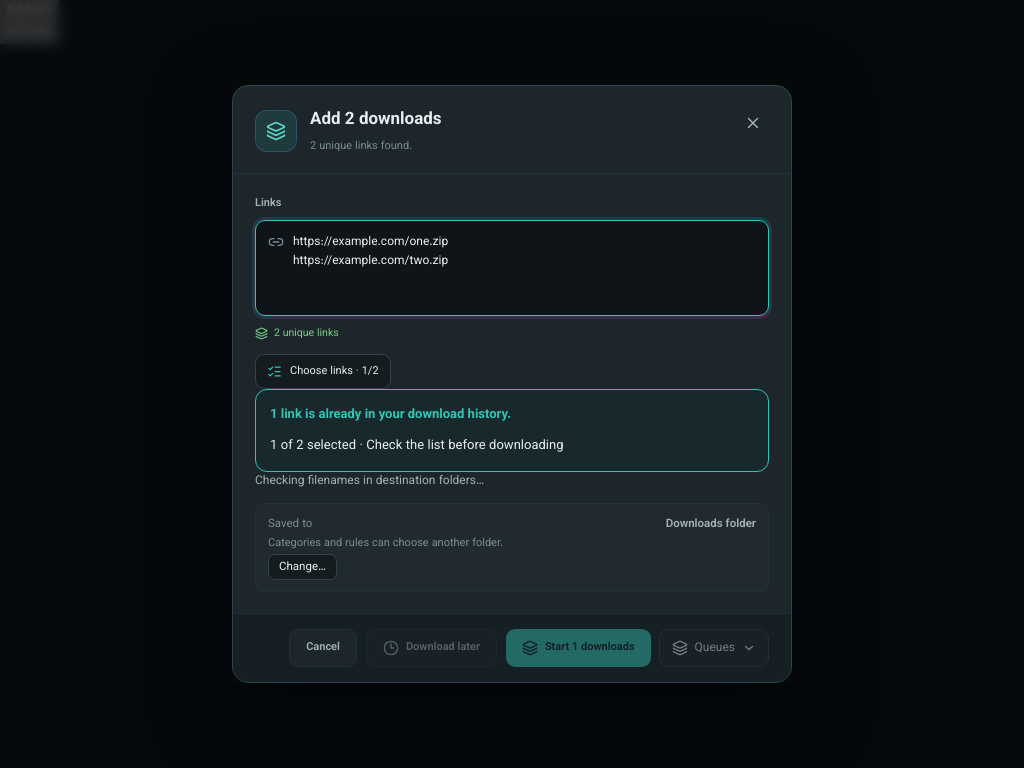
Test: add-download modal keyboard navigation › keeps link selection open when an existing download completes in the background
This screenshot has width=1024, height=768.
Click the button with class "add-download-modal__manage-links" at (323, 372), box [255,354,391,389]
Wait 80 ms
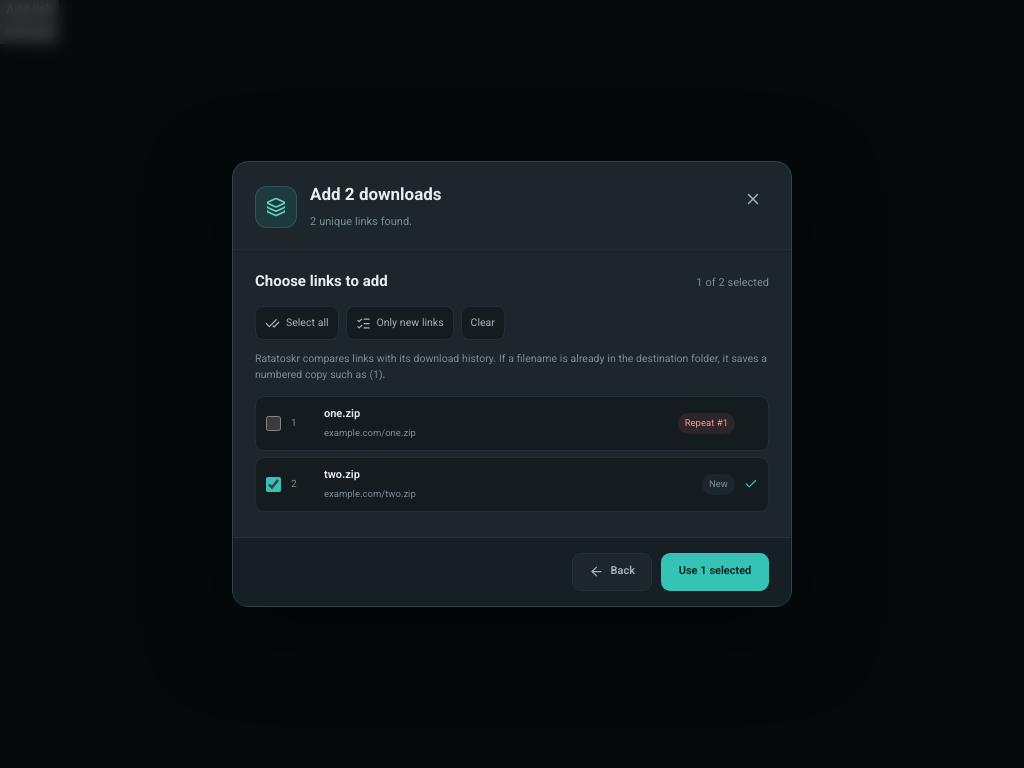
Expected: the element with class "add-download-modal__selection" is shown, [255,271,769,516]
